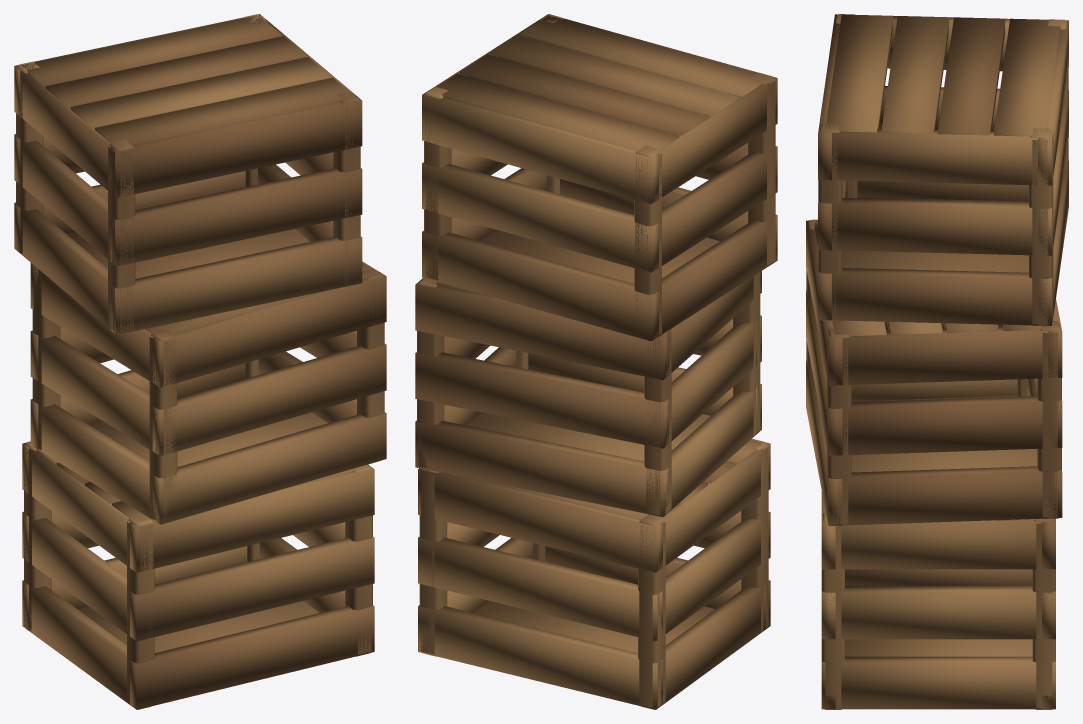
Rendered from crates_3.glb.
3 views of the same model, side by side, from view 1: azimuth 30°, elevation 25°; view 2: azimuth 150°, elevation 25°; view 3: azimuth 270°, elevation 25° (orthographic). The views are drawn at different scales.
Parts seen in each view (by area): view 1: crates_3; view 2: crates_3; view 3: crates_3.
Part boxes in pixels (<box>): crates_3: <box>14,14,386,709</box>; crates_3: <box>415,14,777,709</box>; crates_3: <box>806,14,1068,709</box>.
Size of the model in its own units: 0.6735 by 1.35 by 0.5607.
